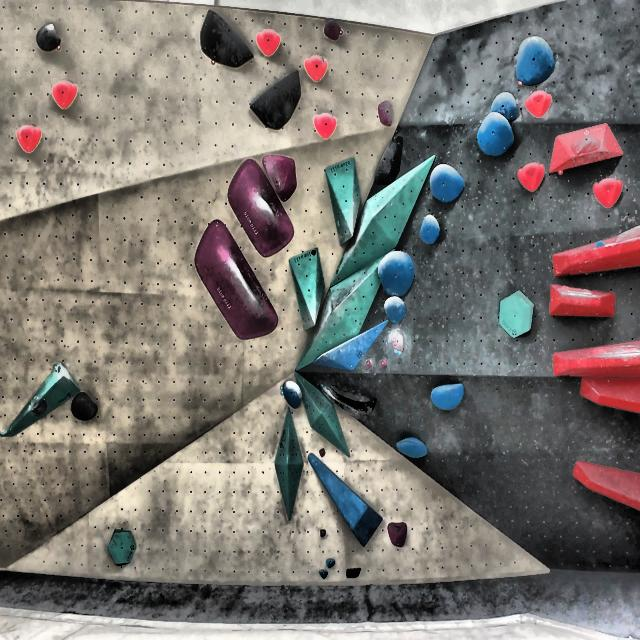Hold: (193, 218, 279, 344), (227, 155, 295, 259), (310, 453, 382, 548), (555, 331, 640, 381), (321, 316, 388, 374), (549, 229, 640, 271), (199, 10, 258, 74), (571, 455, 640, 508), (252, 69, 304, 130), (577, 372, 640, 420), (547, 278, 620, 318), (514, 37, 559, 88), (262, 149, 301, 207), (371, 252, 415, 299), (322, 382, 380, 416), (477, 114, 516, 160), (372, 138, 409, 185), (429, 162, 467, 205), (592, 173, 626, 210), (513, 160, 548, 194), (426, 382, 465, 411), (523, 88, 556, 118), (569, 128, 601, 157), (68, 394, 102, 421), (414, 214, 444, 244), (14, 125, 43, 156), (34, 21, 62, 53), (492, 92, 520, 124), (315, 106, 337, 142), (51, 79, 78, 108), (255, 28, 281, 56), (302, 58, 328, 86), (396, 435, 425, 459), (383, 300, 407, 326), (376, 95, 395, 127), (281, 378, 303, 405), (388, 520, 409, 548), (390, 331, 404, 356), (33, 400, 50, 417), (366, 356, 374, 372), (381, 356, 388, 371)
